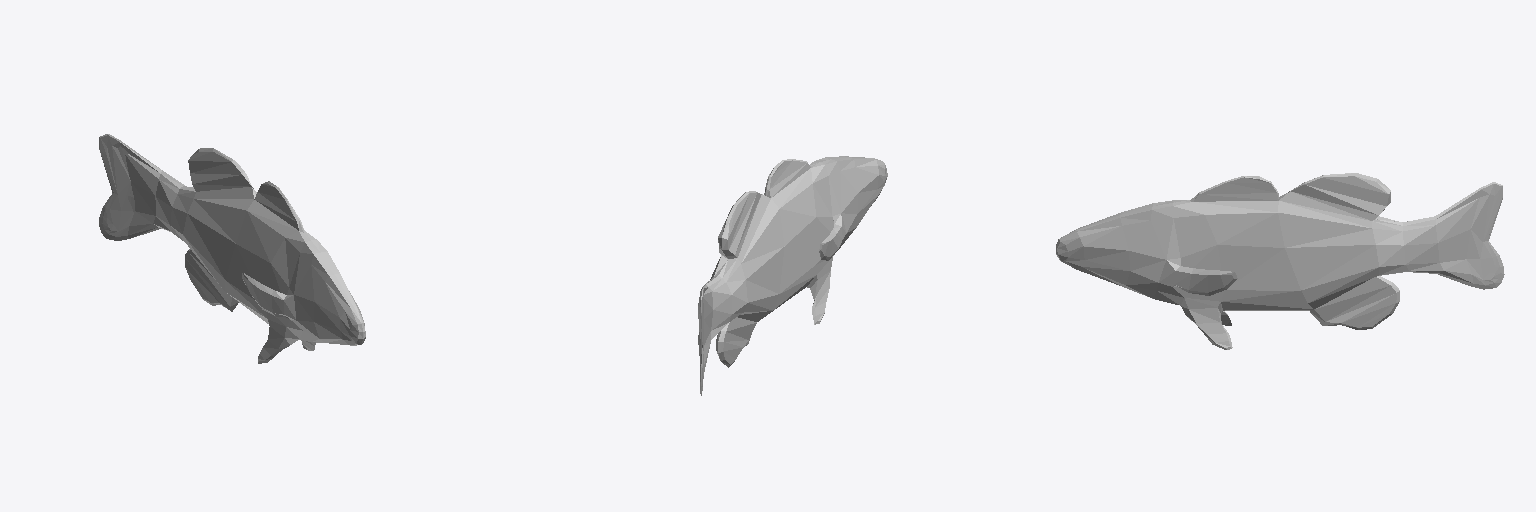
Rendered from carp.obj.
3 views of the same model, side by side, from view 1: azimuth 30°, elevation 25°; view 2: azimuth 150°, elevation 25°; view 3: azimuth 270°, elevation 25° (orthographic).
Parts seen in each view (by area): view 1: Carp_CarpMesh; view 2: Carp_CarpMesh; view 3: Carp_CarpMesh.
Part boxes in pixels (bbox=[...]): Carp_CarpMesh: bbox=[99, 134, 365, 363]; Carp_CarpMesh: bbox=[698, 156, 887, 395]; Carp_CarpMesh: bbox=[1056, 173, 1504, 349].
Size of the model in its own units: 0.2543 by 0.4414 by 1.1.